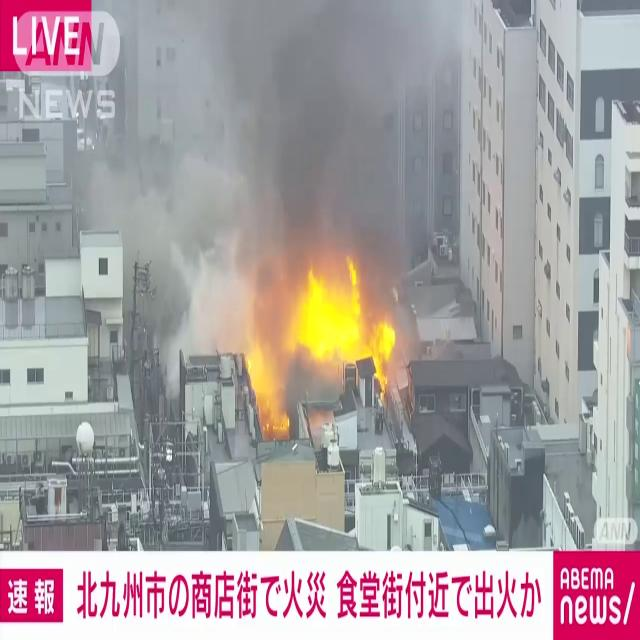Fire: (242, 251, 400, 416)
Smoke: (70, 1, 458, 318)
